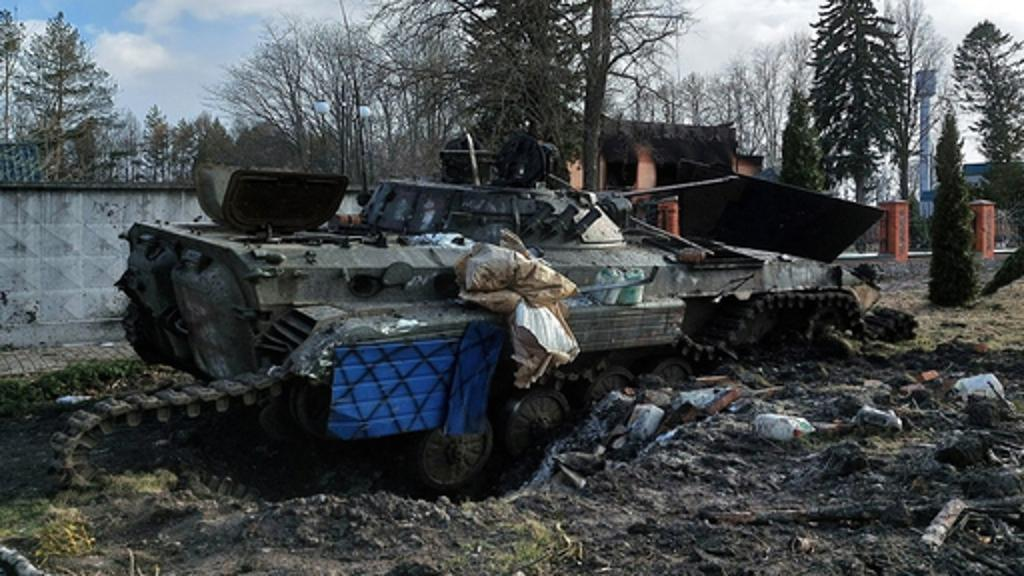APC-IFV: (116, 138, 880, 436)
